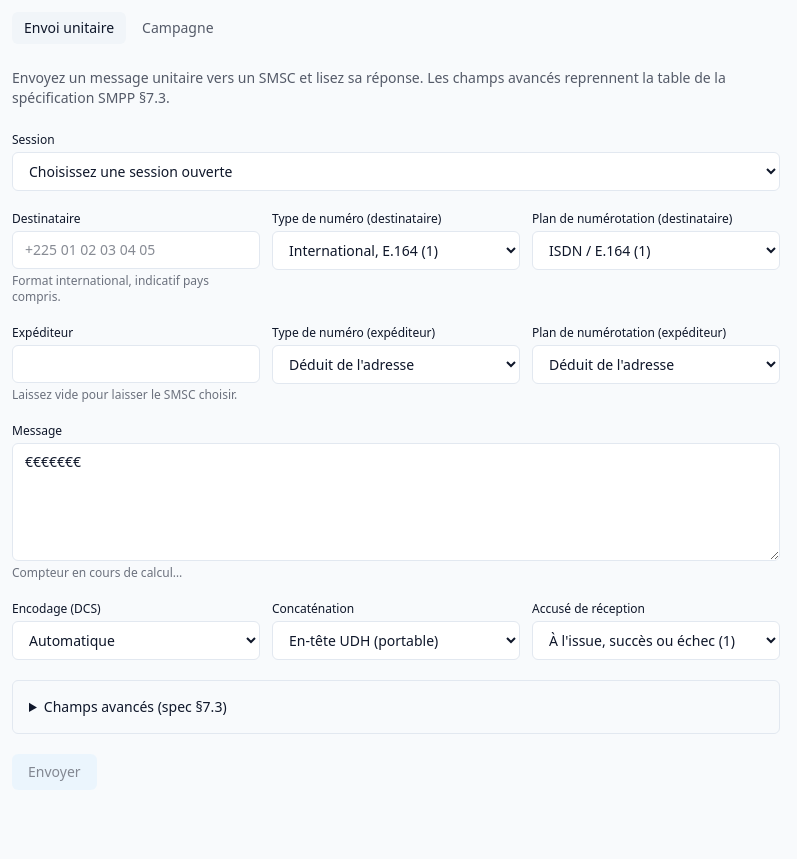
Scenario: Send › Simple › warns as soon as the sender stops being a number
Type "+2250102030405" into the field labelled "Expéditeur" at (136, 364), box [12,345,260,383]
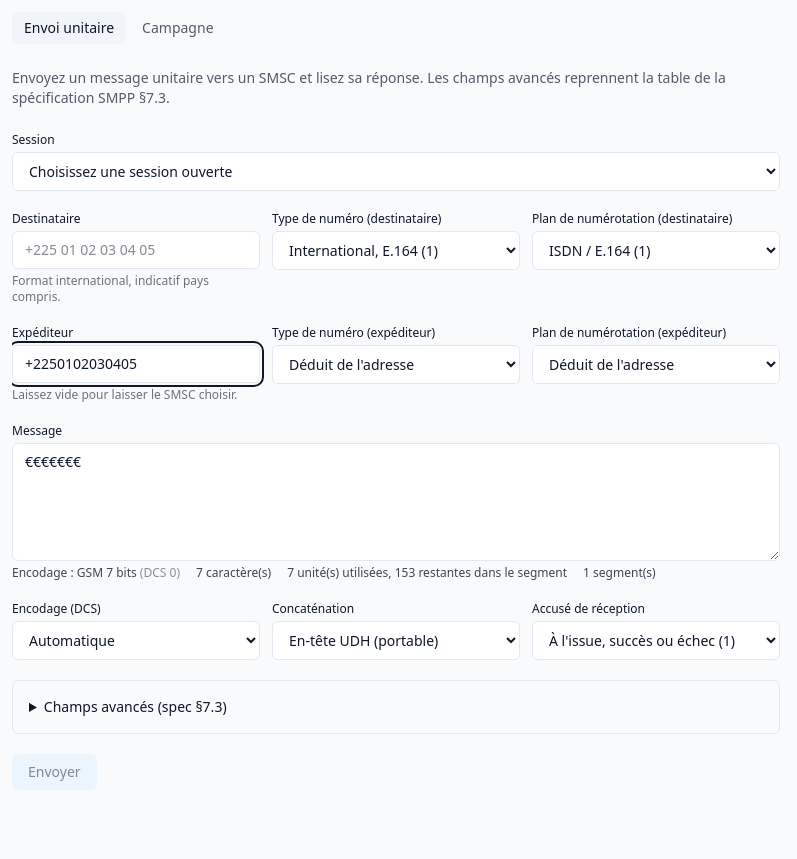
Replace the text in the field labelled "Expéditeur" with "ShinobiSMS" at (136, 364), box [12,345,260,383]
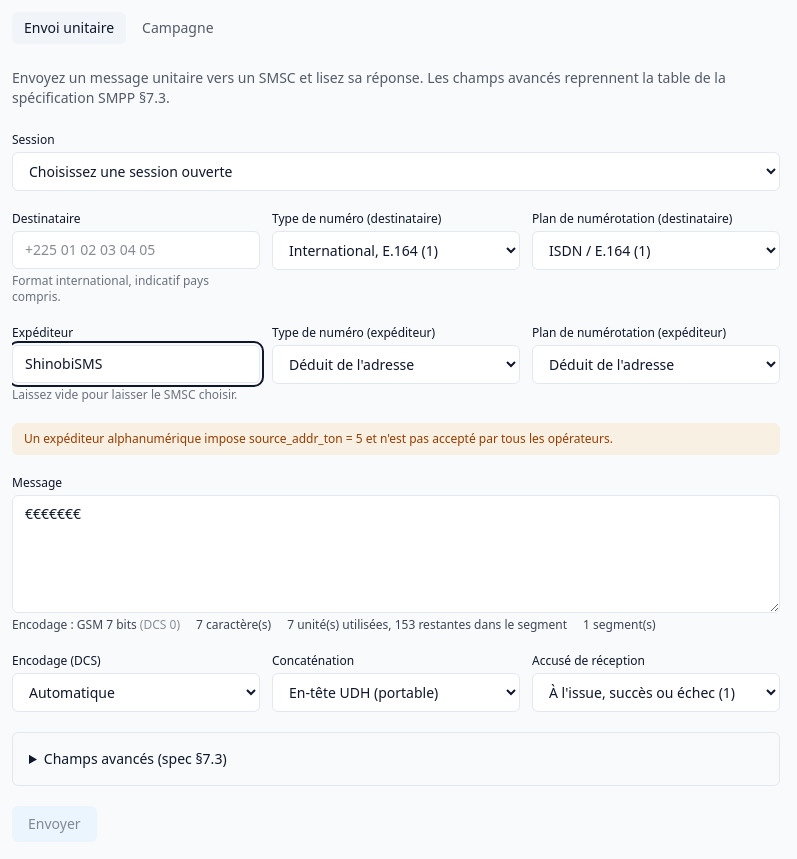
Check: the text "Un expéditeur alphanumérique impose source_addr_ton = 5 et n'est pas accepté par tous les opérateurs." is shown, box [24,430,613,447]
